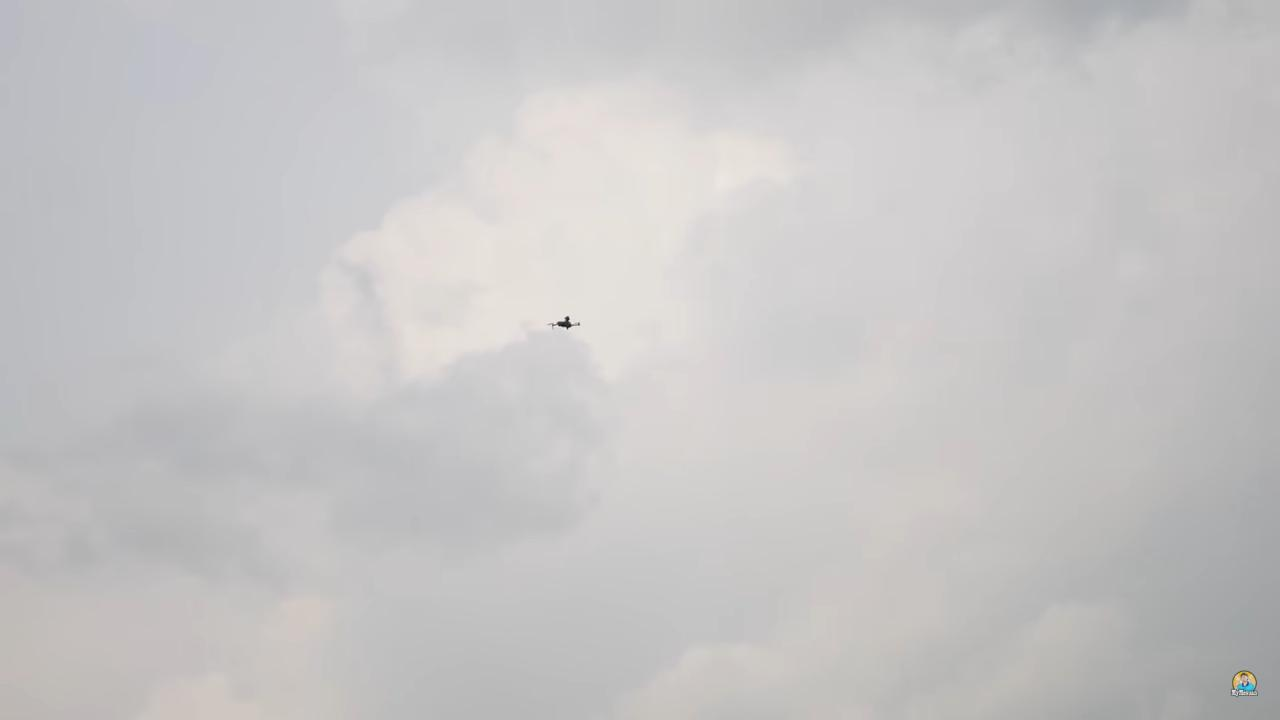Drone: (535, 298, 593, 348)
